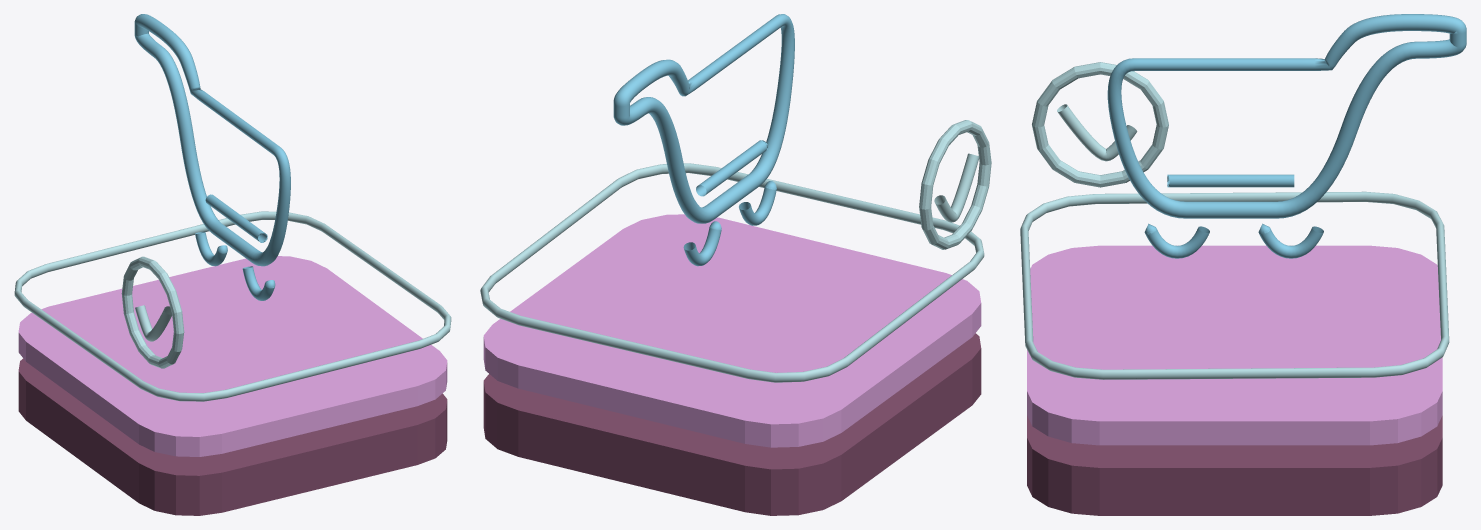
Rendered from button01.fbx.
3 views of the same model, side by side, from view 1: azimuth 30°, elevation 25°; view 2: azimuth 150°, elevation 25°; view 3: azimuth 270°, elevation 25° (orthographic). The views are drawn at different scales.
Visible parts, largest first — view 1: Plane, Plane.002, NurbsPath, Plane.001, Circle; view 2: Plane, Plane.002, NurbsPath, Plane.001, Circle; view 3: Plane, Plane.002, NurbsPath, Plane.001, Circle.
Part boxes in pixels (<box>): Plane: <box>18,256,447,456</box>; Plane.002: <box>18,358,447,515</box>; NurbsPath: <box>134,14,290,300</box>; Plane.001: <box>14,211,451,401</box>; Circle: <box>121,256,184,368</box>; Plane: <box>483,214,981,447</box>; Plane.002: <box>483,333,981,515</box>; NurbsPath: <box>613,14,794,266</box>; Plane.001: <box>480,163,984,382</box>; Circle: <box>919,120,991,249</box>; Plane: <box>1027,245,1442,445</box>; Plane.002: <box>1027,415,1442,515</box>; NurbsPath: <box>1107,14,1466,258</box>; Plane.001: <box>1020,191,1449,379</box>; Circle: <box>1032,62,1168,187</box>.
Size of the model in its own units: 41.27 by 43.99 by 42.94.
